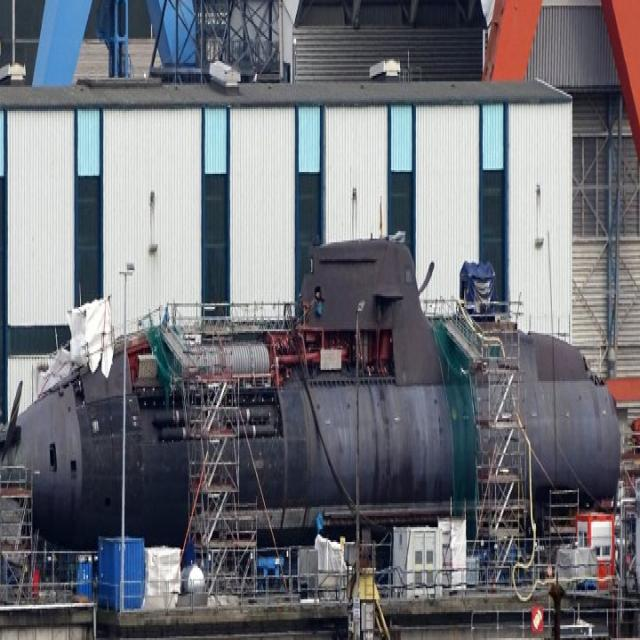submarine: (1, 232, 631, 506)
